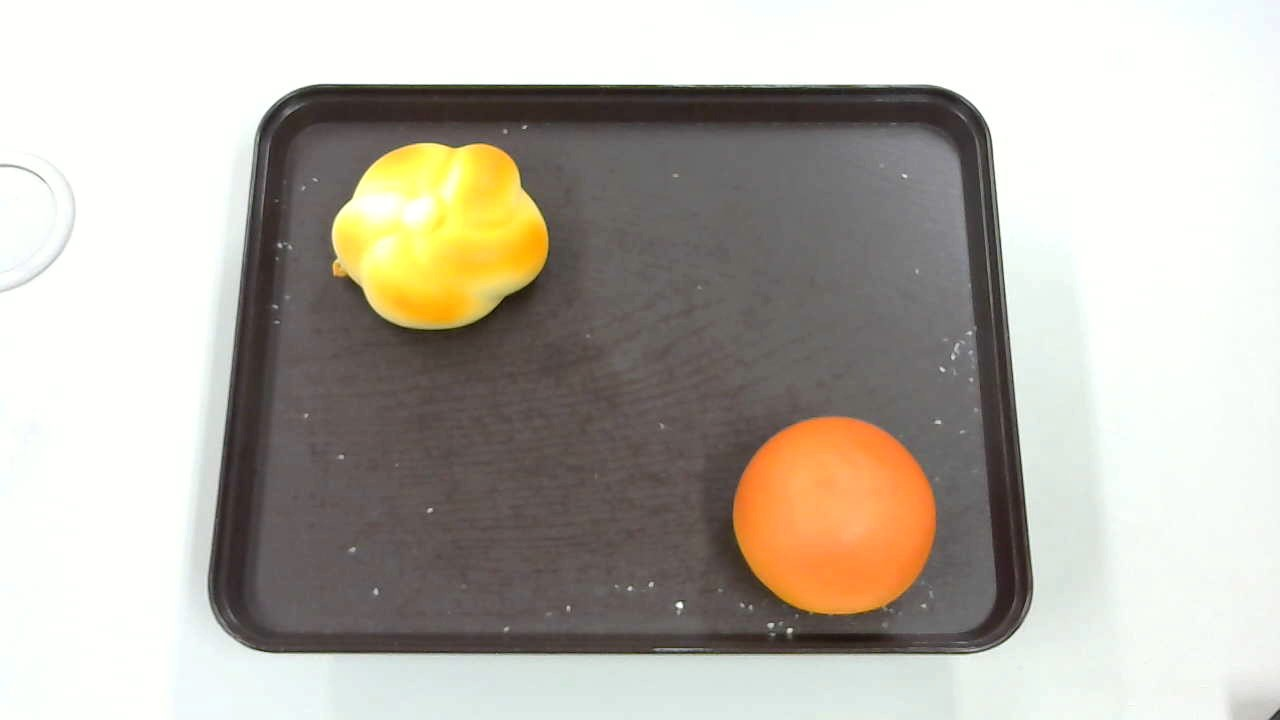bun: (733, 416, 937, 614)
twist bread: (330, 142, 549, 331)
